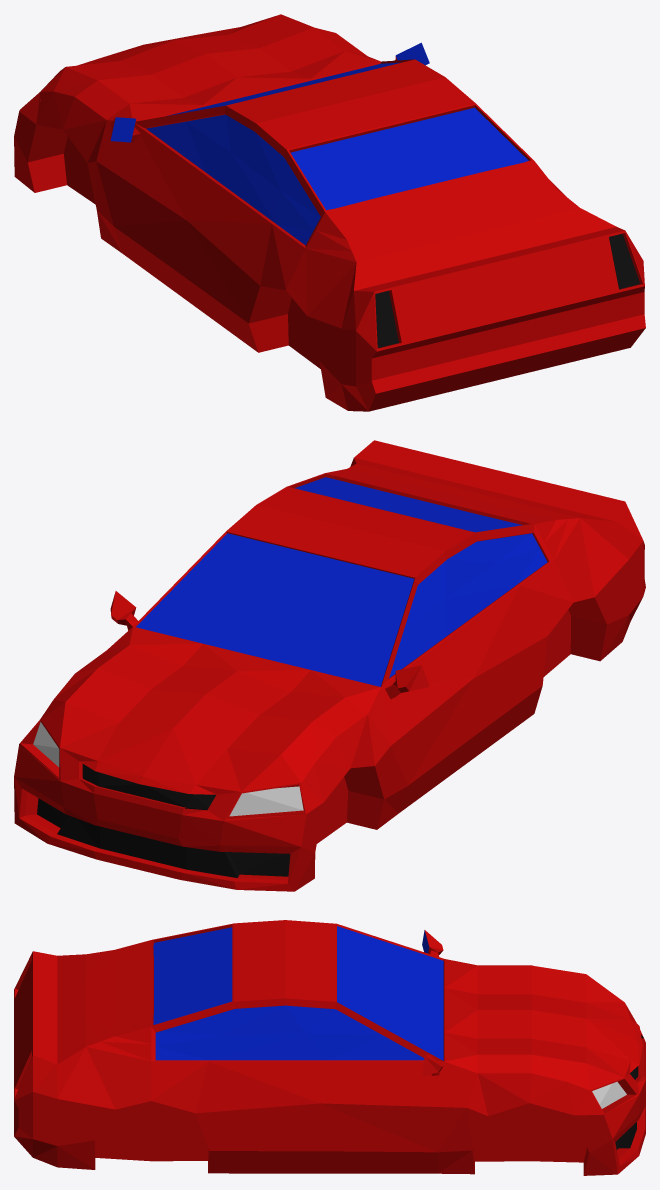
Rendered from car_body.obj.
The picture shows the model from 3 angles, top to bottom: view 1: azimuth 30°, elevation 25°; view 2: azimuth 150°, elevation 25°; view 3: azimuth 270°, elevation 25°; orthographic projection. The views are drawn at different scales.
Parts seen in each view (by area): view 1: Cube.001; view 2: Cube.001; view 3: Cube.001.
Boxes of the visible parts, <box> form: Cube.001: <box>14,14,645,411</box>; Cube.001: <box>14,440,645,891</box>; Cube.001: <box>14,920,645,1175</box>.
Size of the model in its own units: 2.17 by 1.22 by 4.38.
